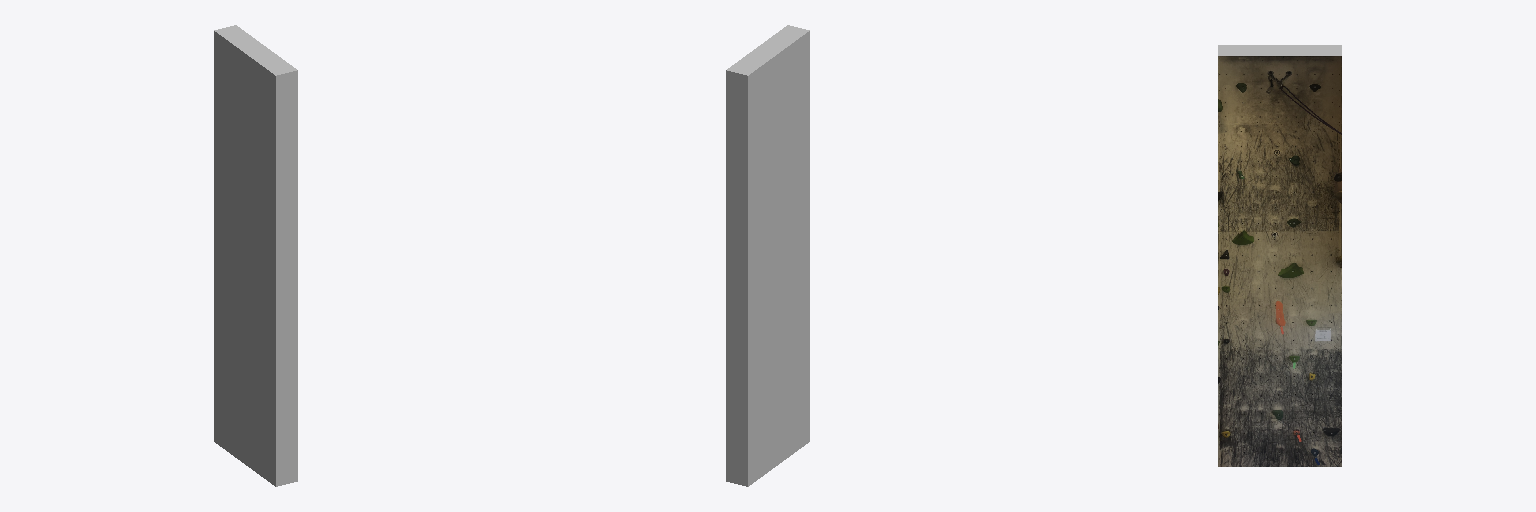
3 views of the same model, side by side, from view 1: azimuth 30°, elevation 25°; view 2: azimuth 150°, elevation 25°; view 3: azimuth 270°, elevation 25° (orthographic).
Parts seen in each view (by area): view 1: Cube; view 2: Cube; view 3: Cube.
Part boxes in pixels (x1,y1,x2,y2): Cube: (214,25,297,486); Cube: (726,25,809,486); Cube: (1218,45,1341,466).
Size of the model in its own units: 0.25 by 4.4 by 1.2.
2 materials, 1 textured.